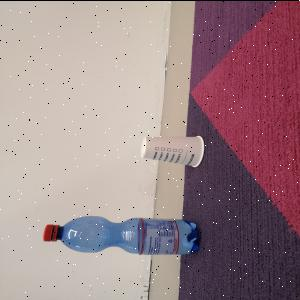Cup: (141, 135, 206, 168)
Plastic-bottle: (43, 215, 203, 256)
